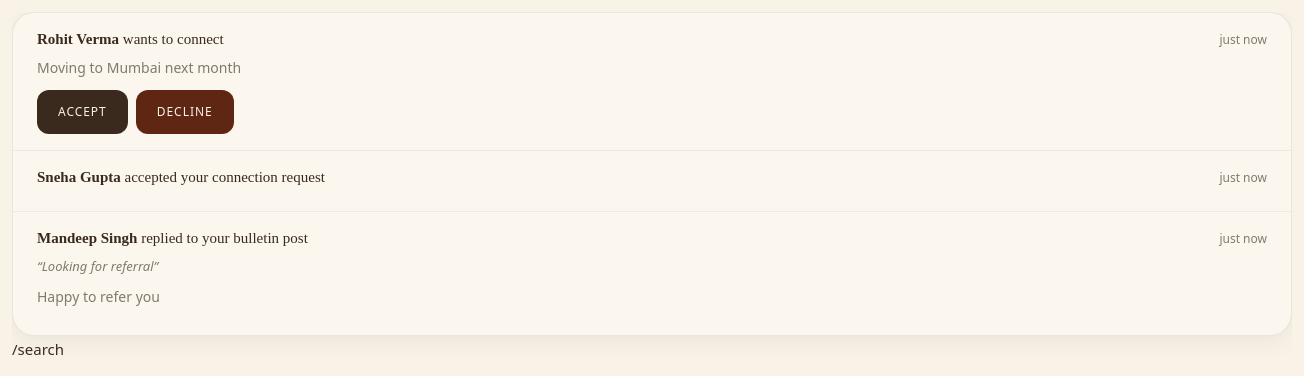
notification quick view (bottom sheet) activation › opens the full inbox for connection-request rows too
The width and height of the screenshot is (1304, 376).
Step 1. Click the button named "connection request from Rohit Verma" → (652, 81), box [13,13,1291,150]
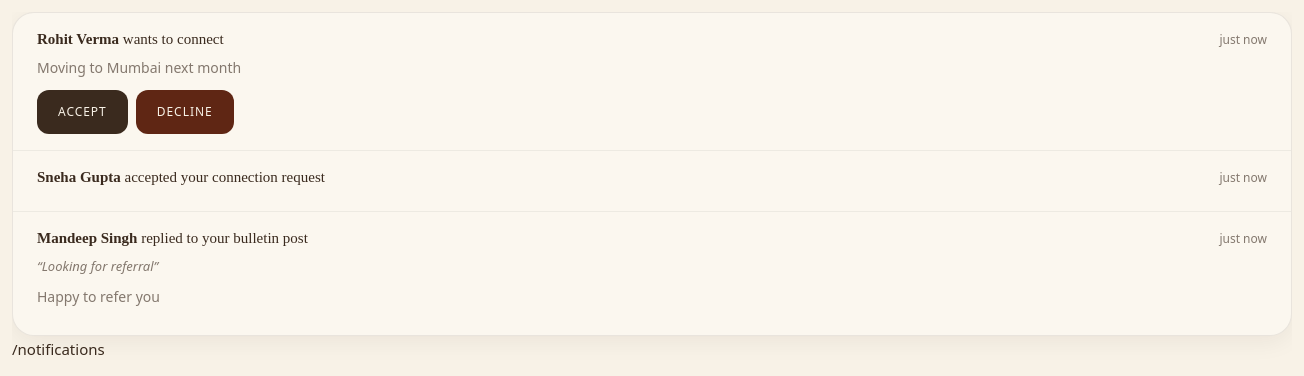
Now the text with test id "loc" reads "/notifications", box [12,339,105,359]
